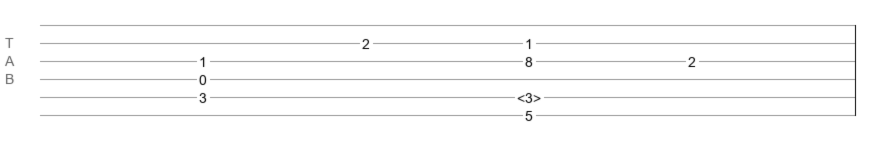0: (199, 72, 207, 82)
1: (199, 54, 207, 64), (525, 36, 533, 46)
2: (362, 36, 370, 46), (688, 54, 696, 64)
3: (199, 90, 207, 100)
5: (525, 108, 533, 118)
8: (525, 54, 533, 64)
harmonic: (517, 90, 541, 100)
